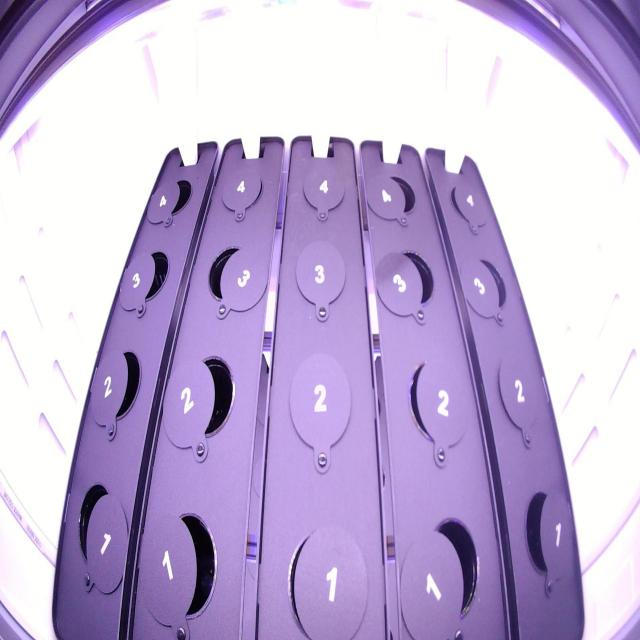empty_pod: (276, 516, 373, 638), (280, 350, 357, 464), (413, 510, 482, 627), (151, 505, 220, 622), (401, 351, 469, 450), (176, 349, 238, 451), (518, 485, 577, 582), (71, 477, 122, 584), (290, 234, 351, 323), (491, 347, 544, 434), (96, 342, 144, 428), (384, 240, 437, 317), (204, 238, 256, 310), (464, 250, 511, 322), (216, 161, 266, 228), (298, 161, 347, 226), (128, 242, 170, 307), (372, 167, 420, 223), (447, 174, 493, 227), (155, 167, 194, 226)
